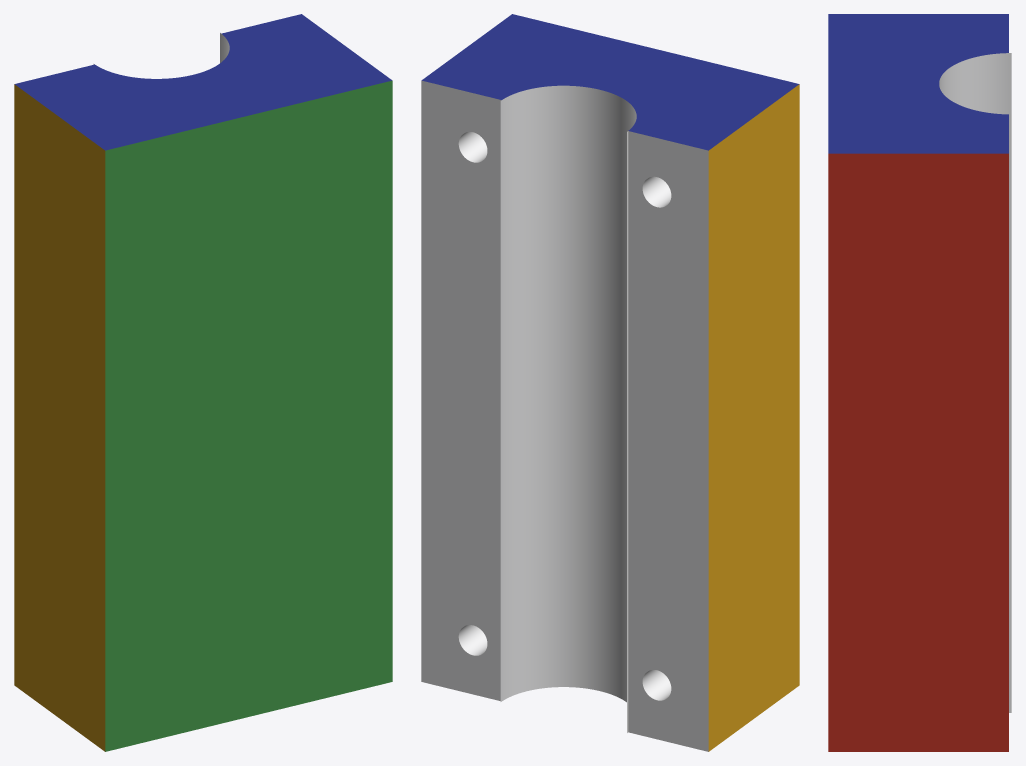
File: Body1.obj
3 renders of one model, left to right at view 1: azimuth 30°, elevation 25°; view 2: azimuth 150°, elevation 25°; view 3: azimuth 270°, elevation 25°, orthographic.
Parts seen in each view (by area): view 1: Body1; view 2: Body1; view 3: Body1.
Part boxes in pixels (x1=…): Body1: x1=14, y1=14, x2=392, y2=751; Body1: x1=421, y1=14, x2=799, y2=751; Body1: x1=828, y1=14, x2=1011, y2=751.
Bounding box in the file's own units: 25 × 50 × 13.9.
